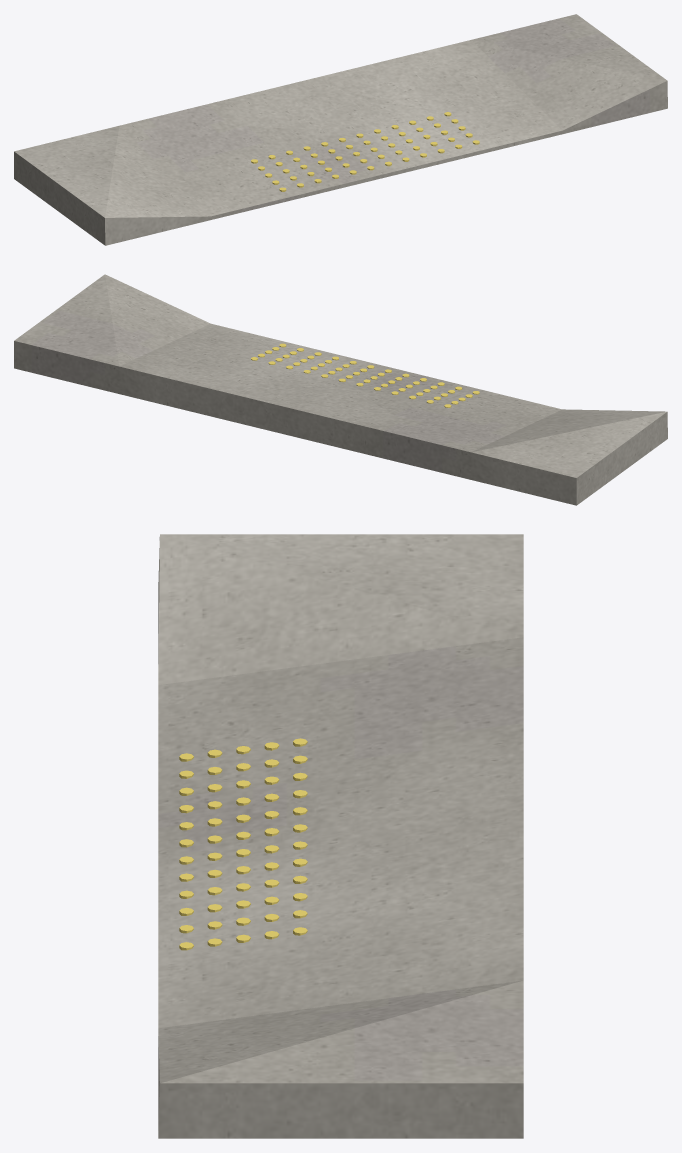
The model's file is curb_ramp.glb.
The picture shows the model from 3 angles, top to bottom: view 1: azimuth 30°, elevation 25°; view 2: azimuth 150°, elevation 25°; view 3: azimuth 270°, elevation 25°; orthographic projection. The views are drawn at different scales.
Visible parts, largest first — view 1: curb_ramp_concrete, curb_ramp_yellow; view 2: curb_ramp_concrete, curb_ramp_yellow; view 3: curb_ramp_concrete, curb_ramp_yellow.
Part boxes in pixels (x1=…): curb_ramp_concrete: x1=14, y1=14, x2=667, y2=245; curb_ramp_yellow: x1=251, y1=112, x2=479, y2=191; curb_ramp_concrete: x1=14, y1=274, x2=667, y2=505; curb_ramp_yellow: x1=251, y1=343, x2=479, y2=407; curb_ramp_concrete: x1=158, y1=534, x2=523, y2=1138; curb_ramp_yellow: x1=179, y1=738, x2=307, y2=950.
Size of the model in its own units: 3.2 by 0.15 by 0.9.
2 materials, 1 textured.
